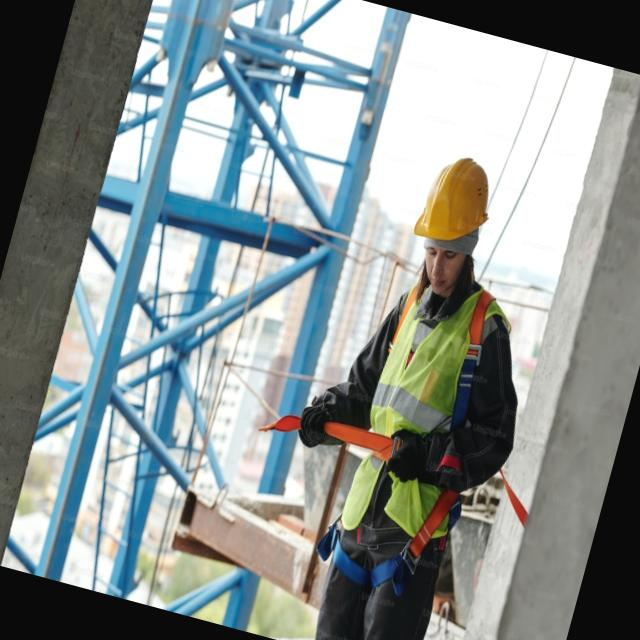helmet: (408, 147, 502, 255)
no-goggles: (405, 230, 472, 278)
vest: (336, 271, 494, 556)
